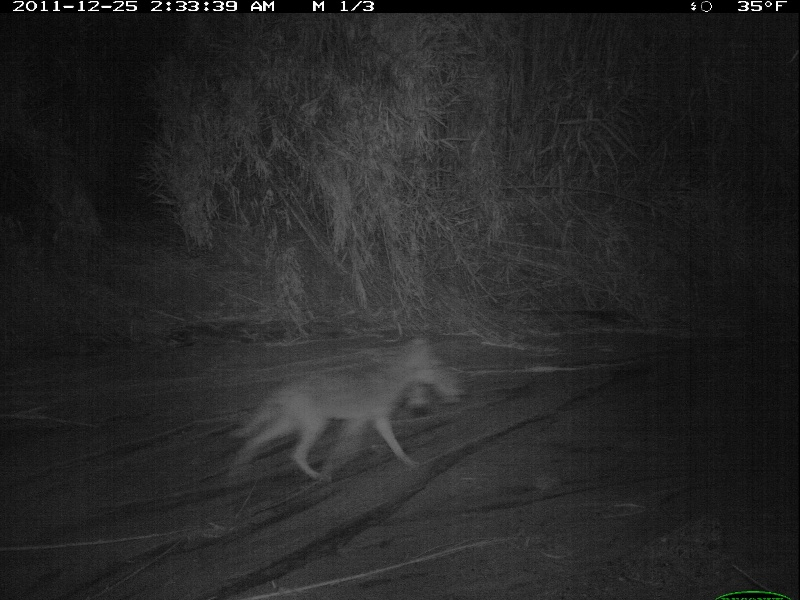coyote: (221, 333, 454, 491)
